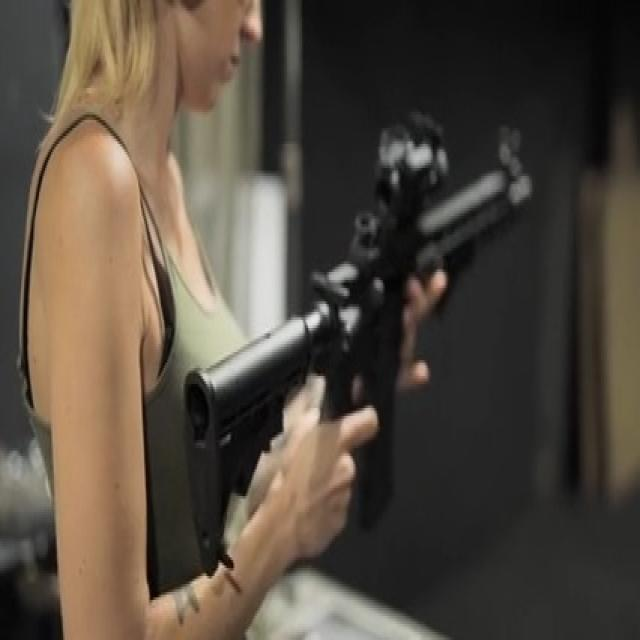Gun_Holder: (156, 126, 602, 587)
Person: (20, 0, 375, 640)
